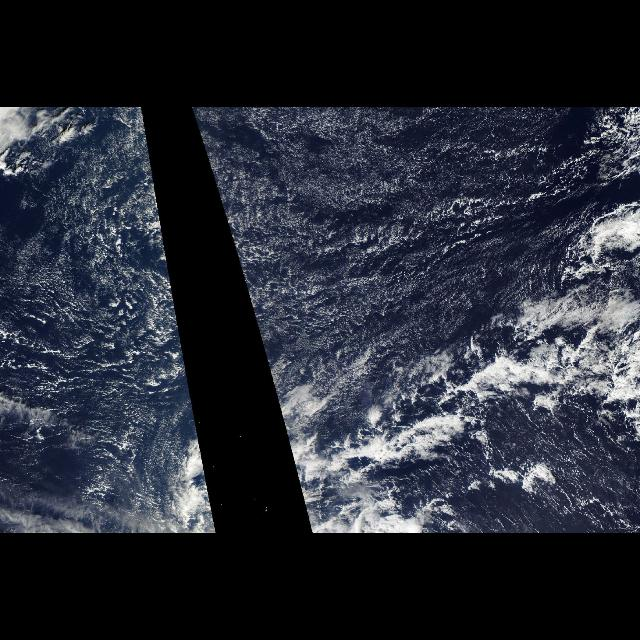Fish: (334, 353, 534, 475)
Gravel: (374, 389, 636, 528)
Sugar: (5, 110, 212, 524), (192, 110, 520, 366)
